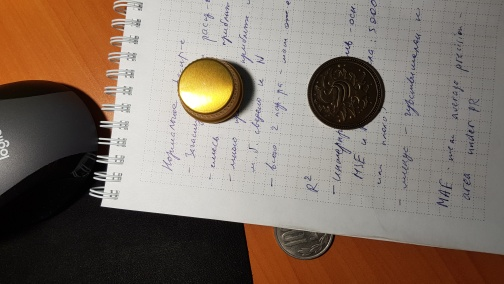coin: (307, 56, 385, 130), (274, 226, 335, 261)
